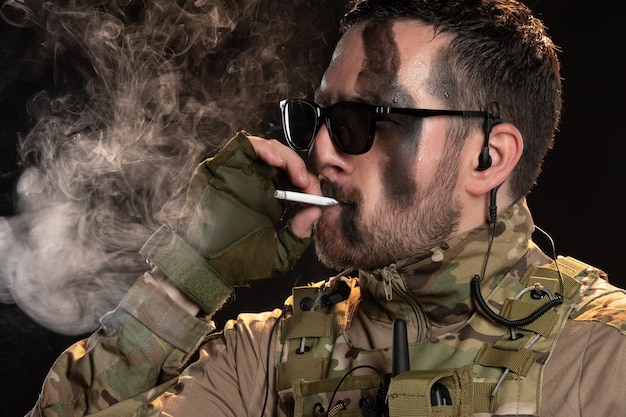cigarette: (272, 188, 341, 211)
